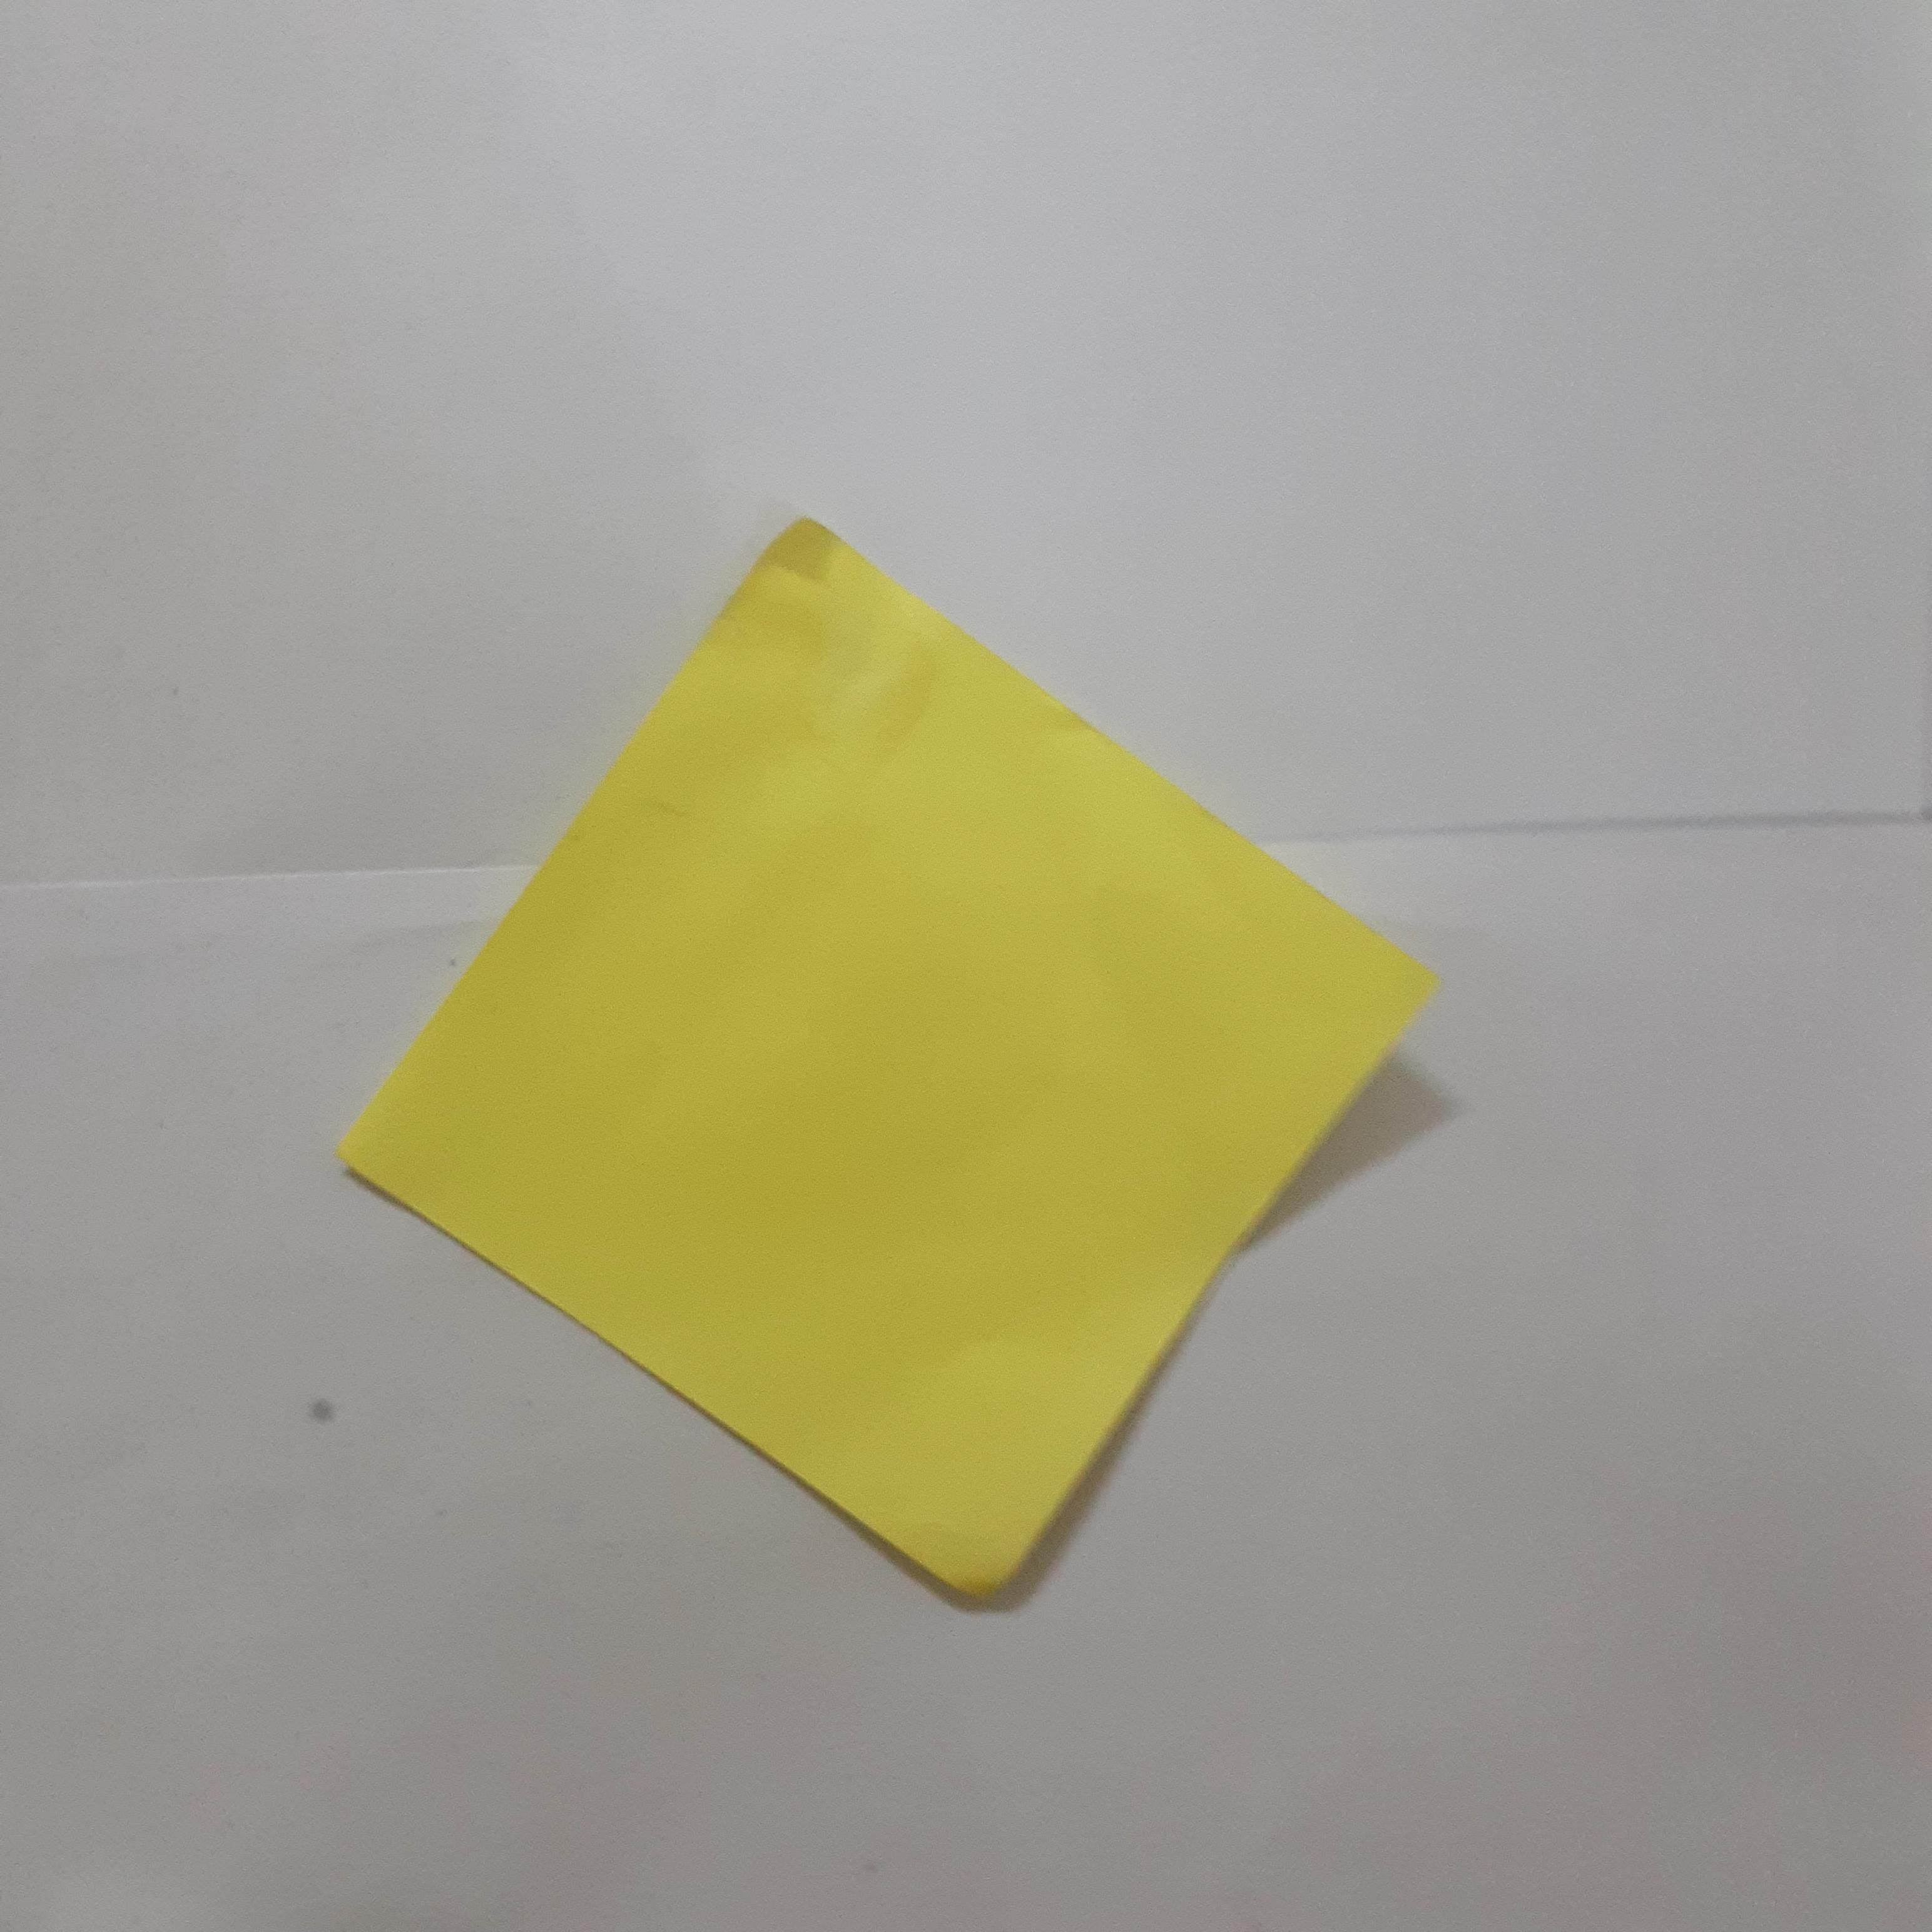Paper: (366, 502, 1444, 1637)
